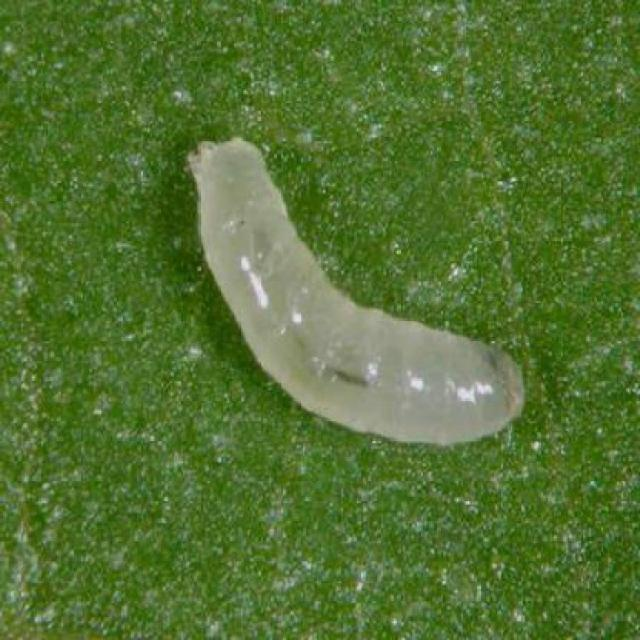whorl-maggot: (180, 121, 529, 457)
